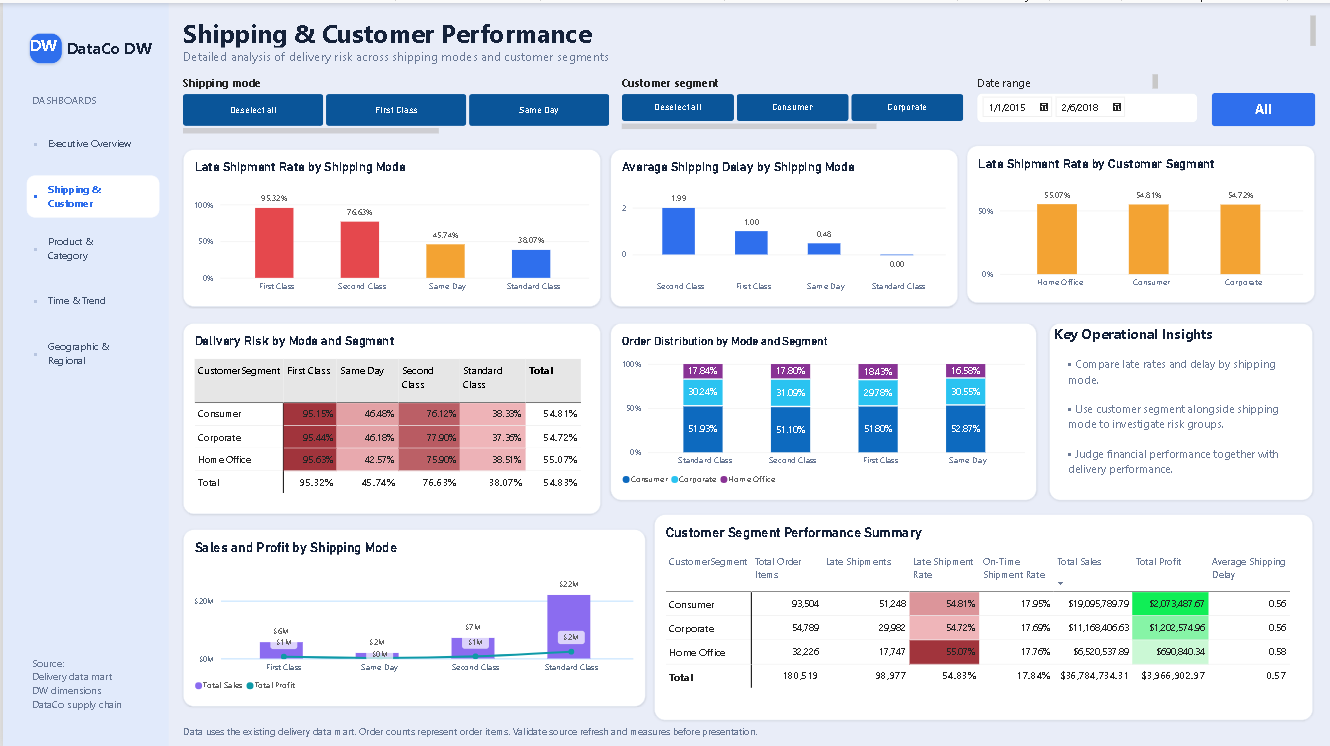

The dashboard page shown, as its layout file describes it:
{"tool":"powerbi","page":{"name":"Shipping & Customer","canvas":[1920,1080],"ordinal":1},"visuals":[{"type":"textbox","box":[0,0,240,1080],"z":0},{"type":"textbox","box":[38,44,48,45],"z":1000},{"type":"textbox","box":[92,48,136,42],"z":2000},{"type":"textbox","box":[42,130,180,30],"z":3000},{"type":"textbox","box":[42,944,174,95],"z":4000},{"type":"textbox","box":[260,18,1640,46],"z":5000},{"type":"textbox","box":[260,65,1640,25],"z":6000},{"type":"textbox","box":[260,1045,1640,24],"z":7000},{"type":"clusteredColumnChart","title":"Late Shipment Rate by Shipping Mode","fields":{"Category":["DW DimShipping.Shipping_Mode"],"Y":["DM FactDeliveryPerformance.Late Shipment Rate"]},"box":[260.6,211.7,605,228],"z":12000},{"type":"clusteredColumnChart","title":"Average Shipping Delay by Shipping Mode","fields":{"Category":["DW DimShipping.Shipping_Mode"],"Y":["DM FactDeliveryPerformance.Average Shipping Delay"]},"box":[879.5,211.7,503,228],"z":13000},{"type":"clusteredColumnChart","title":"Late Shipment Rate by Customer Segment","fields":{"Category":["DM FactDeliveryPerformance.CustomerSegment"],"Y":["DM FactDeliveryPerformance.Late Shipment Rate"]},"box":[1395.2,206.3,504,228],"z":14000},{"type":"pivotTable","title":"Delivery Risk by Mode and Segment","fields":{"Columns":["DW DimShipping.Shipping_Mode"],"Rows":["DM FactDeliveryPerformance.CustomerSegment"],"Values":["DM FactDeliveryPerformance.Late Shipment Rate"]},"box":[260.6,463.3,604.4,276.9],"z":15000},{"type":"lineClusteredColumnComboChart","title":"Sales and Profit by Shipping Mode","fields":{"Category":["DW DimShipping.Shipping_Mode"],"Y":["DM FactDeliveryPerformance.Total Sales"],"Y2":["DM FactDeliveryPerformance.Total Profit"]},"box":[260.6,761.9,669.6,257],"z":16000},{"type":"pivotTable","title":"Customer Segment Performance Summary","fields":{"Rows":["DM FactDeliveryPerformance.CustomerSegment"],"Values":["DM FactDeliveryPerformance.Total Order Items","DM FactDeliveryPerformance.Late Shipments","DM FactDeliveryPerformance.Late Shipment Rate","DM FactDeliveryPerformance.On-Time Shipment Rate","DM FactDeliveryPerformance.Total Sales","DM FactDeliveryPerformance.Total Profit","DM FactDeliveryPerformance.Average Shipping Delay"]},"box":[942.8,740.2,953.7,298.6],"z":17000},{"type":"hundredPercentStackedColumnChart","title":"Order Distribution by Mode and Segment","fields":{"Category":["DW DimShipping.Shipping_Mode"],"Series":["DM FactDeliveryPerformance.CustomerSegment"],"Y":["DM FactDeliveryPerformance.Total Order Items"]},"box":[879.5,463.3,617.1,257],"z":18000},{"type":"textbox","box":[1514.7,463.3,381.8,257],"z":19000},{"type":"textbox","box":[1541.8,510.3,336.6,181],"z":20000},{"type":"textbox","box":[34,250,192,61],"z":21000},{"type":"textbox","box":[65,191,165,48],"z":22000},{"type":"textbox","box":[65,258,165,48],"z":23000},{"type":"textbox","box":[65,334,165,48],"z":24000},{"type":"textbox","box":[65,419,165,48],"z":25000},{"type":"textbox","box":[65,486,165,48],"z":26000},{"type":"textbox","box":[44,344,22,28],"z":27000},{"type":"textbox","box":[44,496,22,28],"z":28000},{"type":"textbox","box":[44,268,22,28],"z":29000},{"type":"textbox","box":[44,420,22,28],"z":30000},{"type":"textbox","box":[44,192,22,28],"z":31000},{"type":"actionButton","box":[34,174,192,61],"z":32000},{"type":"actionButton","box":[34,250,192,61],"z":33000},{"type":"actionButton","box":[34,326,192,61],"z":34000},{"type":"actionButton","box":[34,402,192,61],"z":35000},{"type":"actionButton","box":[34,478,192,61],"z":36000},{"type":"textbox","box":[260.6,103.2,175.5,41.6],"z":37000},{"type":"textbox","box":[1409.7,103.2,262.4,21.7],"z":38000},{"type":"textbox","box":[895.8,103.2,247.9,27.1],"z":39000},{"type":"advancedSlicerVisual","fields":{"Values":["DM FactDeliveryPerformance.CustomerSegment"]},"box":[895.8,132.1,494,52.5],"z":40000},{"type":"slicer","fields":{"Values":["DW DimDate.FullDate"]},"box":[1409.7,130.3,320.3,43.4],"z":41000},{"type":"actionButton","box":[1749.9,130.3,150,48],"z":42000},{"type":"advancedSlicerVisual","fields":{"Values":["DW DimShipping.Shipping_Mode"]},"box":[260.6,132.1,618.9,59.7],"z":43000}]}

Visuals, with their boxes on the page's 1920x1080 design canvas (x1, y1, x2, y2). These are canvas units, not pixel positions in the 1330x746 screenshot, which may show the page scaled, cropped or inside an application window:
textbox: [x1=0, y1=0, x2=240, y2=1080]
textbox: [x1=38, y1=44, x2=86, y2=89]
textbox: [x1=92, y1=48, x2=228, y2=90]
textbox: [x1=42, y1=130, x2=222, y2=160]
textbox: [x1=42, y1=944, x2=216, y2=1039]
textbox: [x1=260, y1=18, x2=1900, y2=64]
textbox: [x1=260, y1=65, x2=1900, y2=90]
textbox: [x1=260, y1=1045, x2=1900, y2=1069]
"Late Shipment Rate by Shipping Mode" clusteredColumnChart: [x1=261, y1=212, x2=866, y2=440]
"Average Shipping Delay by Shipping Mode" clusteredColumnChart: [x1=880, y1=212, x2=1382, y2=440]
"Late Shipment Rate by Customer Segment" clusteredColumnChart: [x1=1395, y1=206, x2=1899, y2=434]
"Delivery Risk by Mode and Segment" pivotTable: [x1=261, y1=463, x2=865, y2=740]
"Sales and Profit by Shipping Mode" lineClusteredColumnComboChart: [x1=261, y1=762, x2=930, y2=1019]
"Customer Segment Performance Summary" pivotTable: [x1=943, y1=740, x2=1896, y2=1039]
"Order Distribution by Mode and Segment" hundredPercentStackedColumnChart: [x1=880, y1=463, x2=1497, y2=720]
textbox: [x1=1515, y1=463, x2=1896, y2=720]
textbox: [x1=1542, y1=510, x2=1878, y2=691]
textbox: [x1=34, y1=250, x2=226, y2=311]
textbox: [x1=65, y1=191, x2=230, y2=239]
textbox: [x1=65, y1=258, x2=230, y2=306]
textbox: [x1=65, y1=334, x2=230, y2=382]
textbox: [x1=65, y1=419, x2=230, y2=467]
textbox: [x1=65, y1=486, x2=230, y2=534]
textbox: [x1=44, y1=344, x2=66, y2=372]
textbox: [x1=44, y1=496, x2=66, y2=524]
textbox: [x1=44, y1=268, x2=66, y2=296]
textbox: [x1=44, y1=420, x2=66, y2=448]
textbox: [x1=44, y1=192, x2=66, y2=220]
actionButton: [x1=34, y1=174, x2=226, y2=235]
actionButton: [x1=34, y1=250, x2=226, y2=311]
actionButton: [x1=34, y1=326, x2=226, y2=387]
actionButton: [x1=34, y1=402, x2=226, y2=463]
actionButton: [x1=34, y1=478, x2=226, y2=539]
textbox: [x1=261, y1=103, x2=436, y2=145]
textbox: [x1=1410, y1=103, x2=1672, y2=125]
textbox: [x1=896, y1=103, x2=1144, y2=130]
advancedSlicerVisual - DM FactDeliveryPerformance.CustomerSegment: [x1=896, y1=132, x2=1390, y2=185]
slicer - DW DimDate.FullDate: [x1=1410, y1=130, x2=1730, y2=174]
actionButton: [x1=1750, y1=130, x2=1900, y2=178]
advancedSlicerVisual - DW DimShipping.Shipping_Mode: [x1=261, y1=132, x2=880, y2=192]
